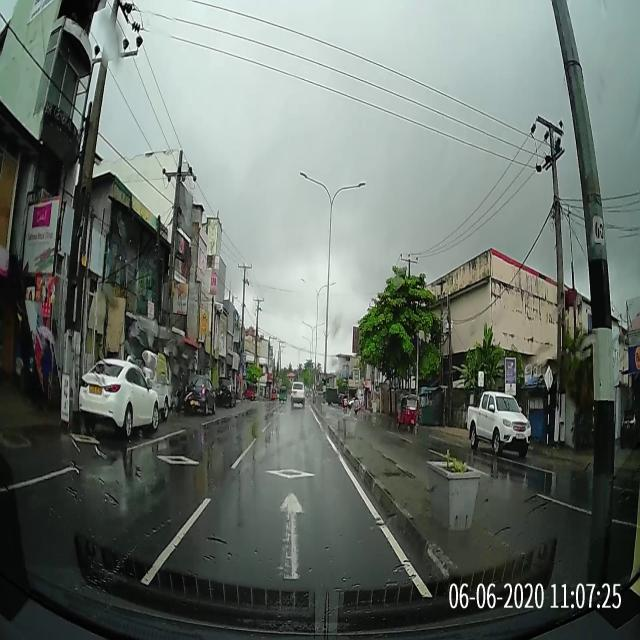diamond: (225, 456, 361, 485)
forward: (155, 486, 419, 588)
